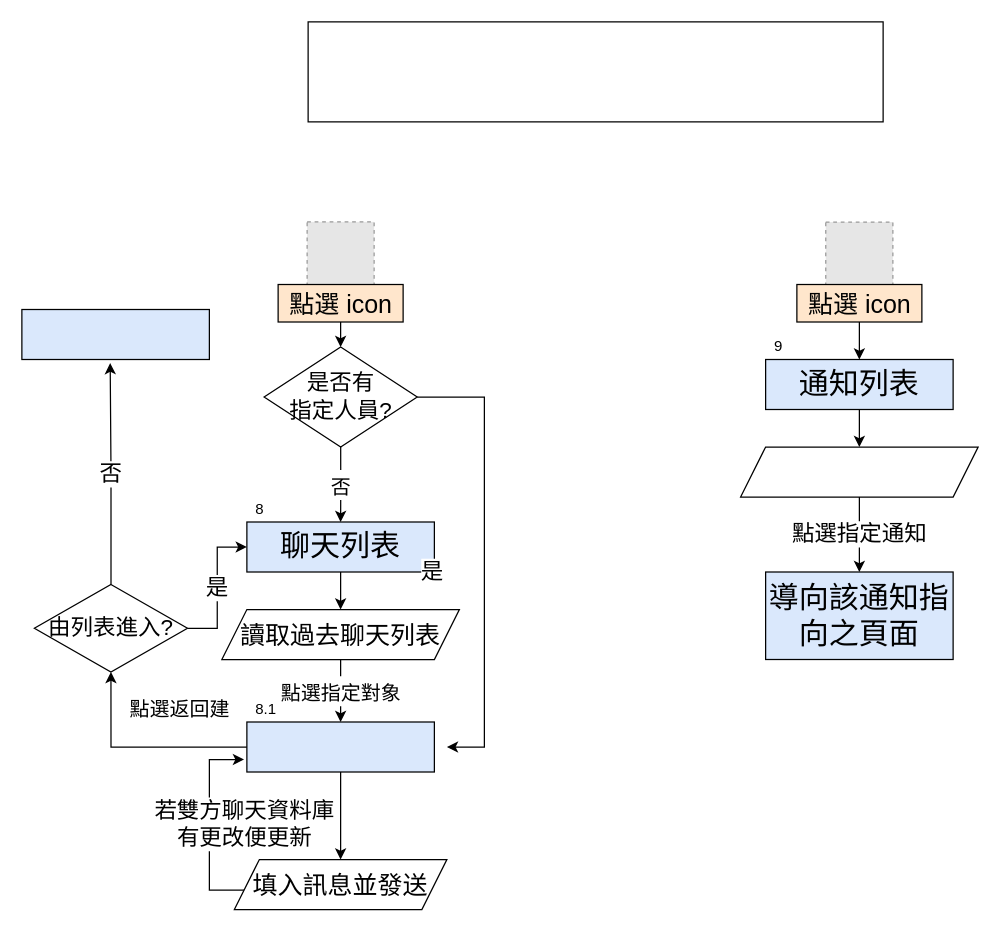
The diagram is 1000 pixels wide and 933 high, and some of its shapes have lost their labels. Grey dashed boxes stand in for pictures. Each missing label, with the centre of its shape:
"#本程式中多處會顯示下列兩 icon 而在點下後界會導向相同之流程" goes at (595,71).
"原進入之頁面" goes at (115,334).
"聊天室" goes at (340,746).
"讀取通知" goes at (858,471).
